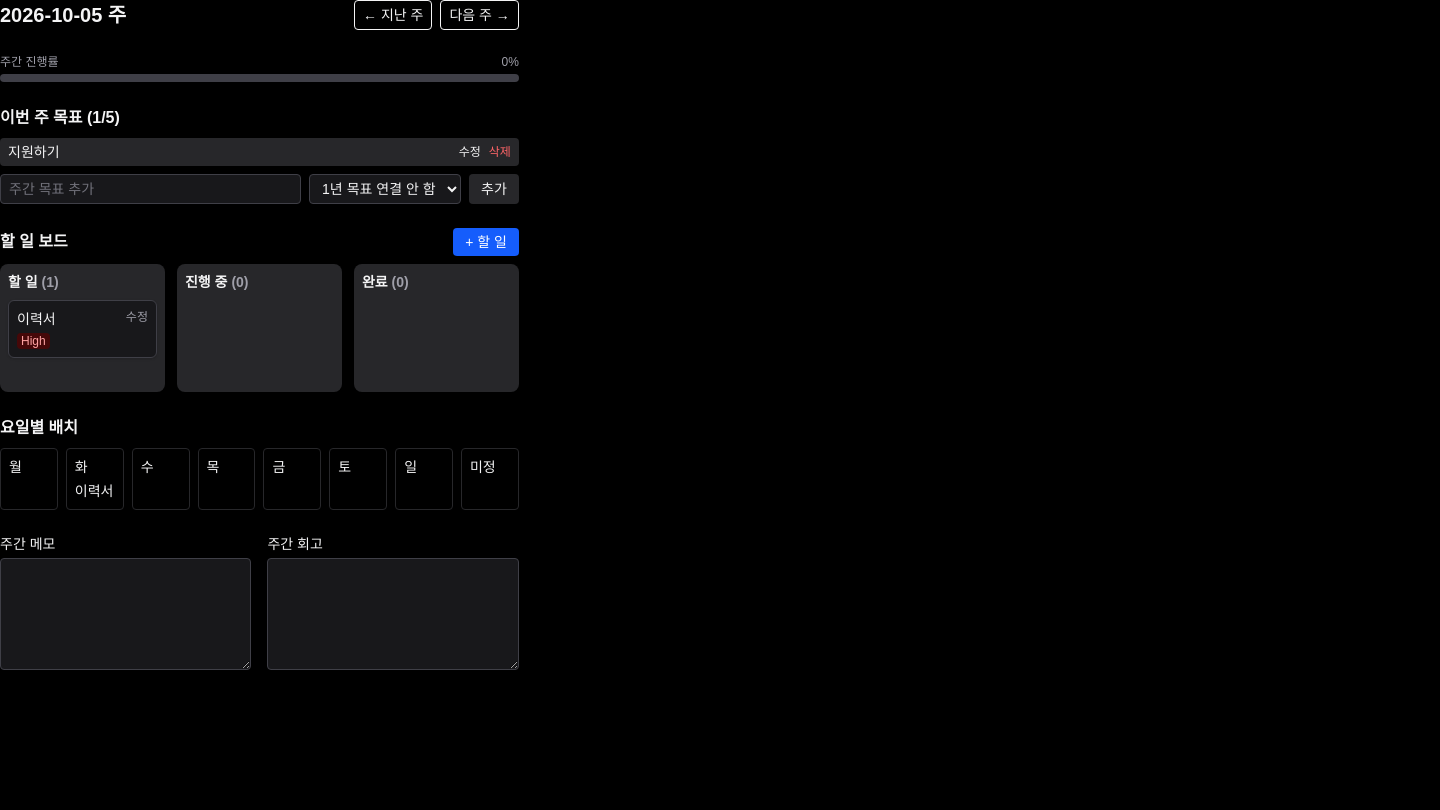
Test case: WeekView edit and delete › deletes a task from the modal
The image size is (1440, 810).
Click the button with aria-label "이력서 수정": (137, 317) x1=126 y1=309 x2=148 y2=325
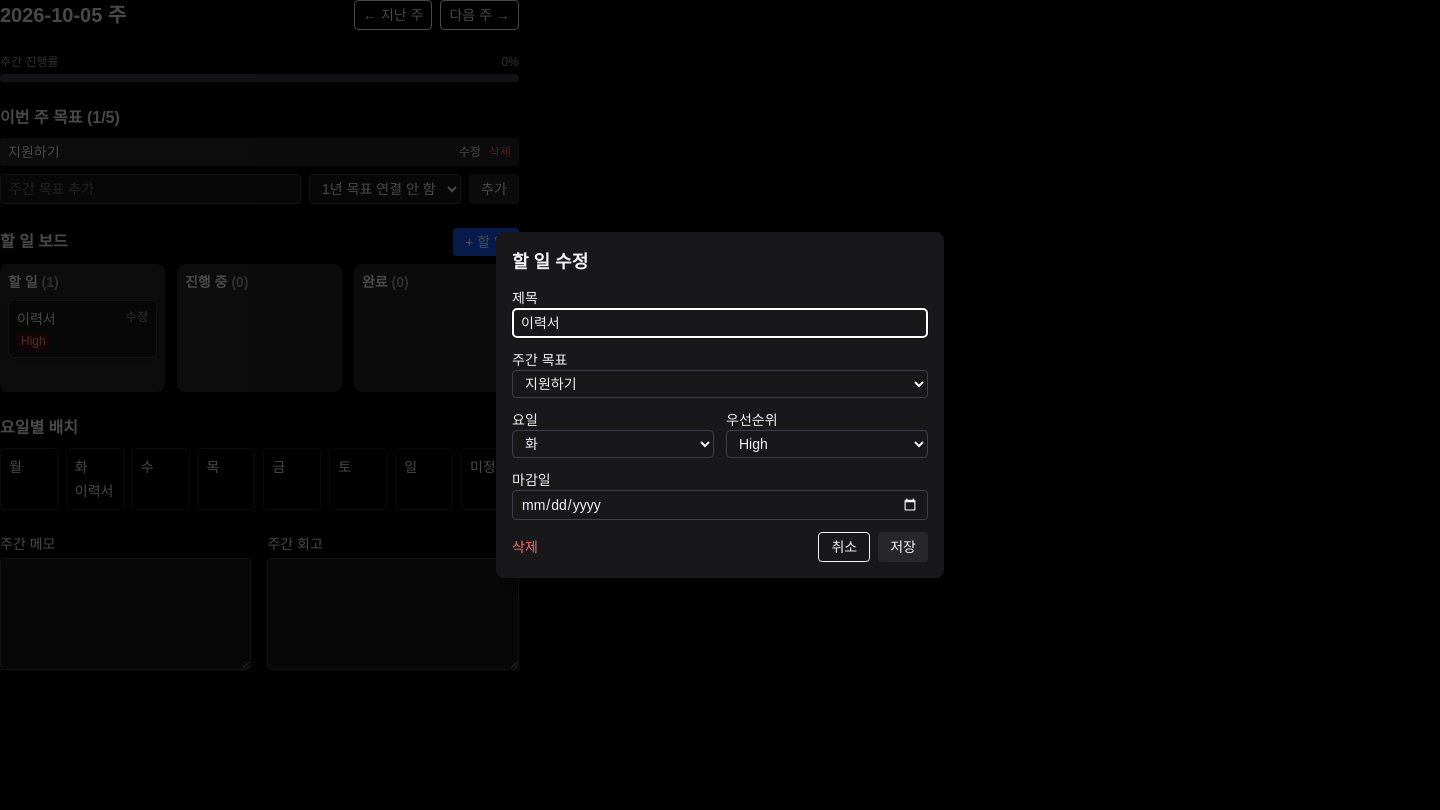
Expected: the dialog is shown
Click the button "삭제": (525, 547) x1=512 y1=532 x2=538 y2=562
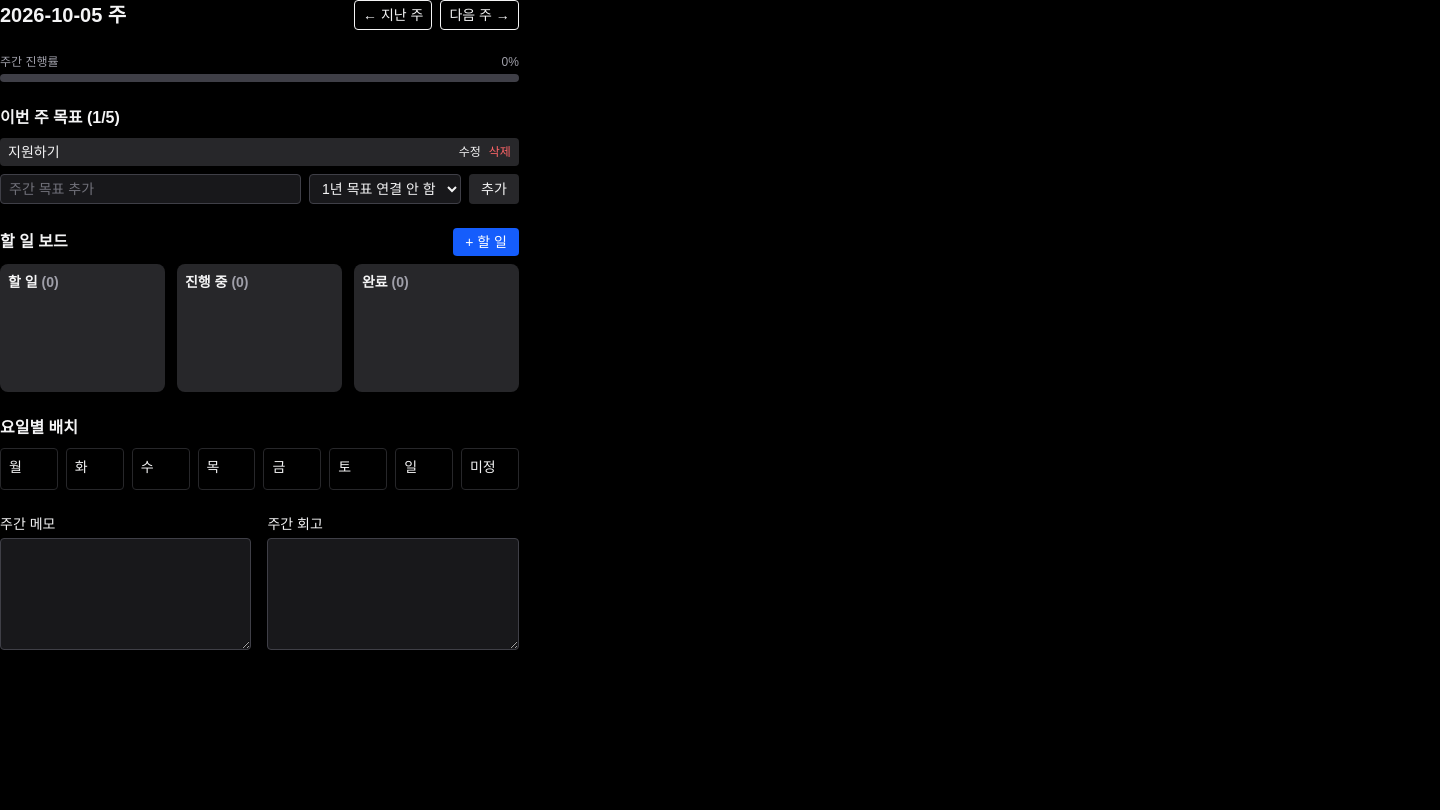
Expected: the button "이력서" is gone
